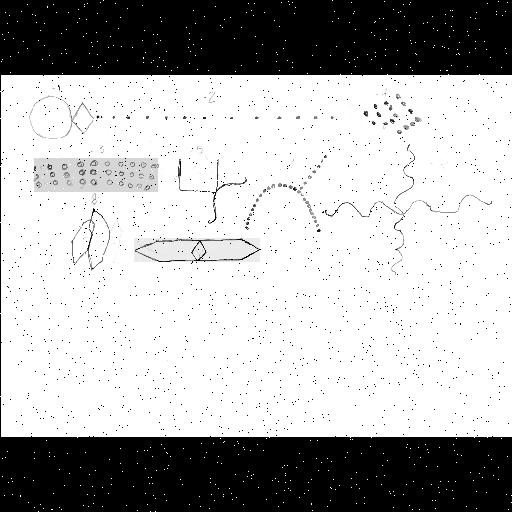shape-1: (26, 94, 94, 138)
shape-2: (98, 112, 332, 122)
shape-3: (34, 158, 158, 192)
shape-4: (362, 92, 420, 136)
shape-5: (176, 158, 246, 222)
shape-6: (245, 154, 327, 232)
shape-7: (321, 144, 495, 274)
shape-8: (70, 210, 110, 270)
shape-9: (134, 238, 260, 262)
